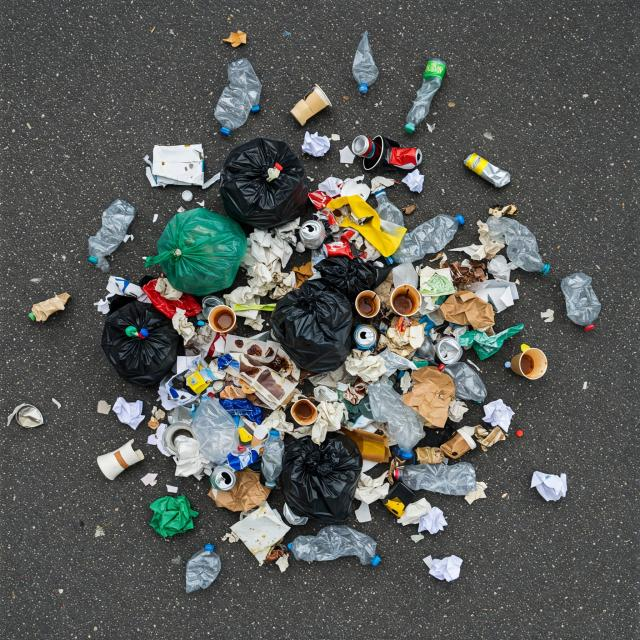aluminum: (388, 138, 426, 174)
paper: (145, 140, 209, 191), (407, 367, 458, 428), (144, 496, 200, 542), (441, 289, 498, 334), (531, 460, 574, 507), (422, 551, 465, 586), (114, 385, 145, 431)
plastic: (88, 198, 136, 266), (396, 212, 466, 255), (212, 61, 253, 134), (343, 26, 382, 96), (560, 269, 602, 333)
